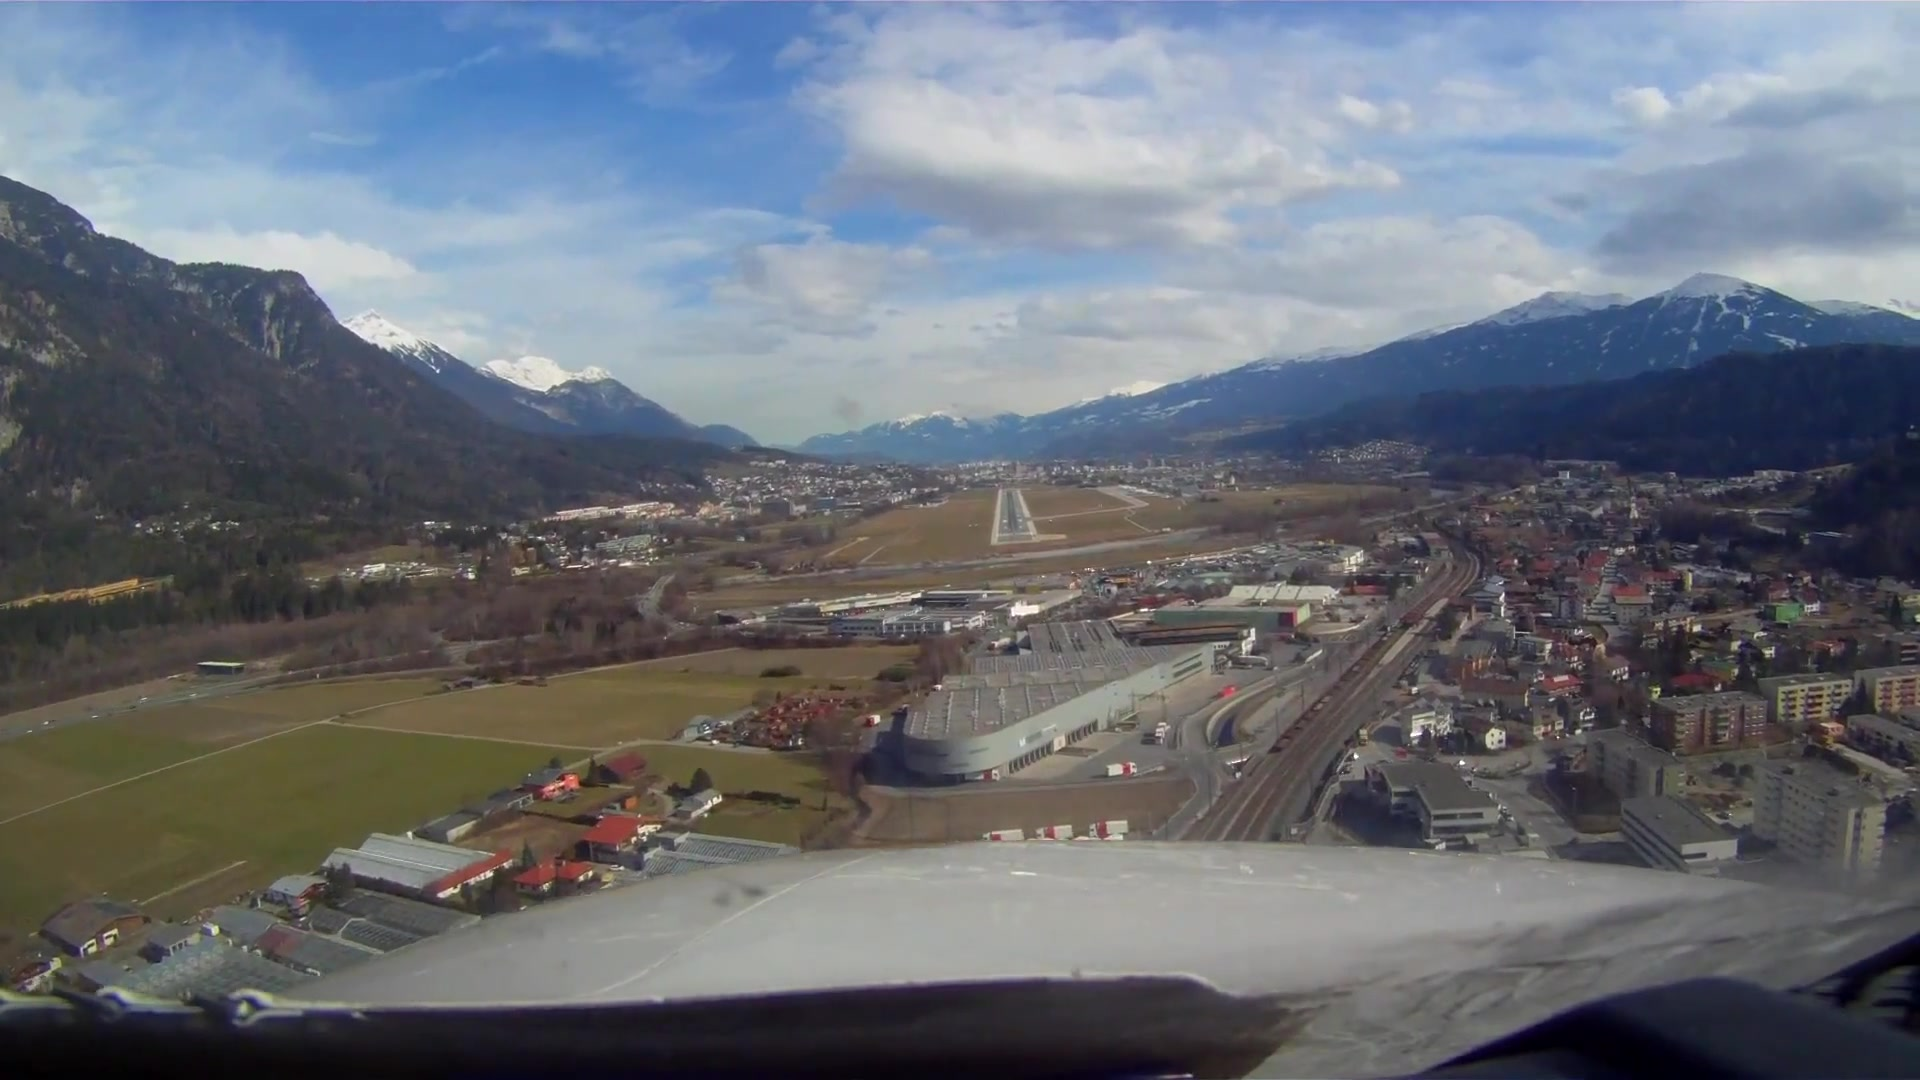entrance: (997, 530, 1033, 537)
runway: (996, 488, 1036, 539)
